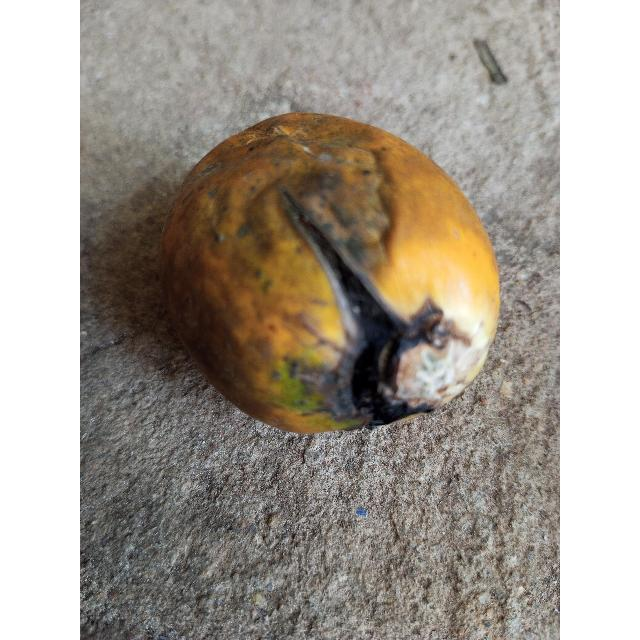damaged: (159, 112, 501, 437)
